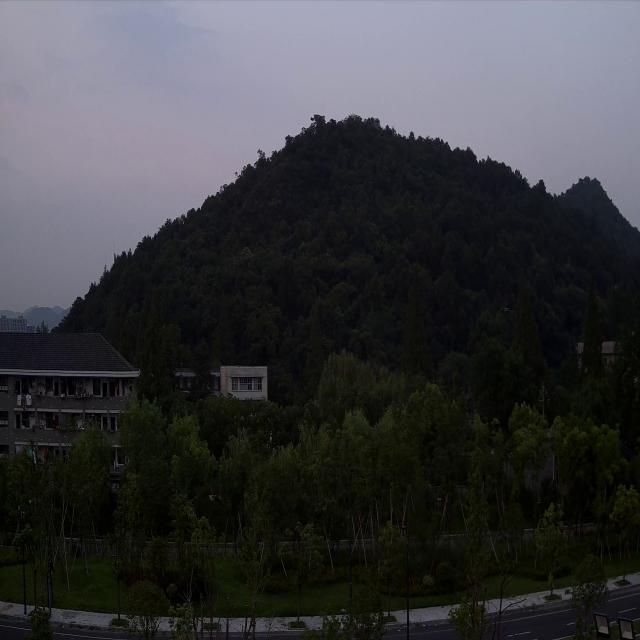drone: (500, 306, 512, 313)
